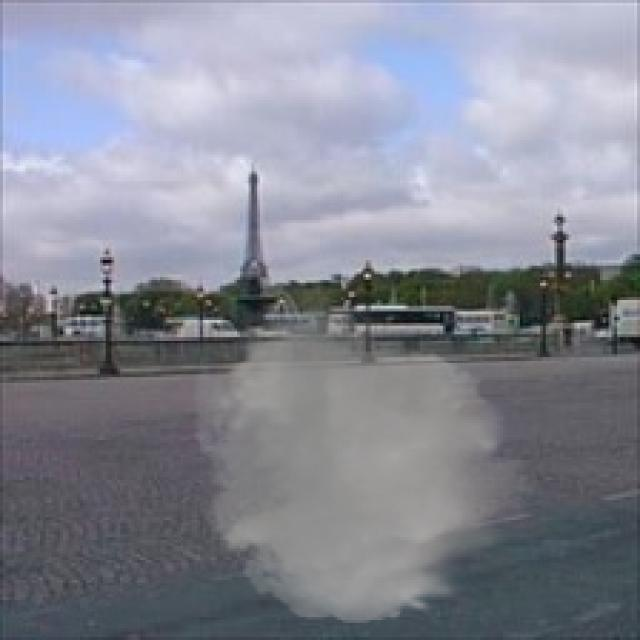Smoke: (177, 283, 549, 632)
